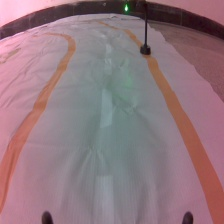green: (123, 1, 152, 58)
